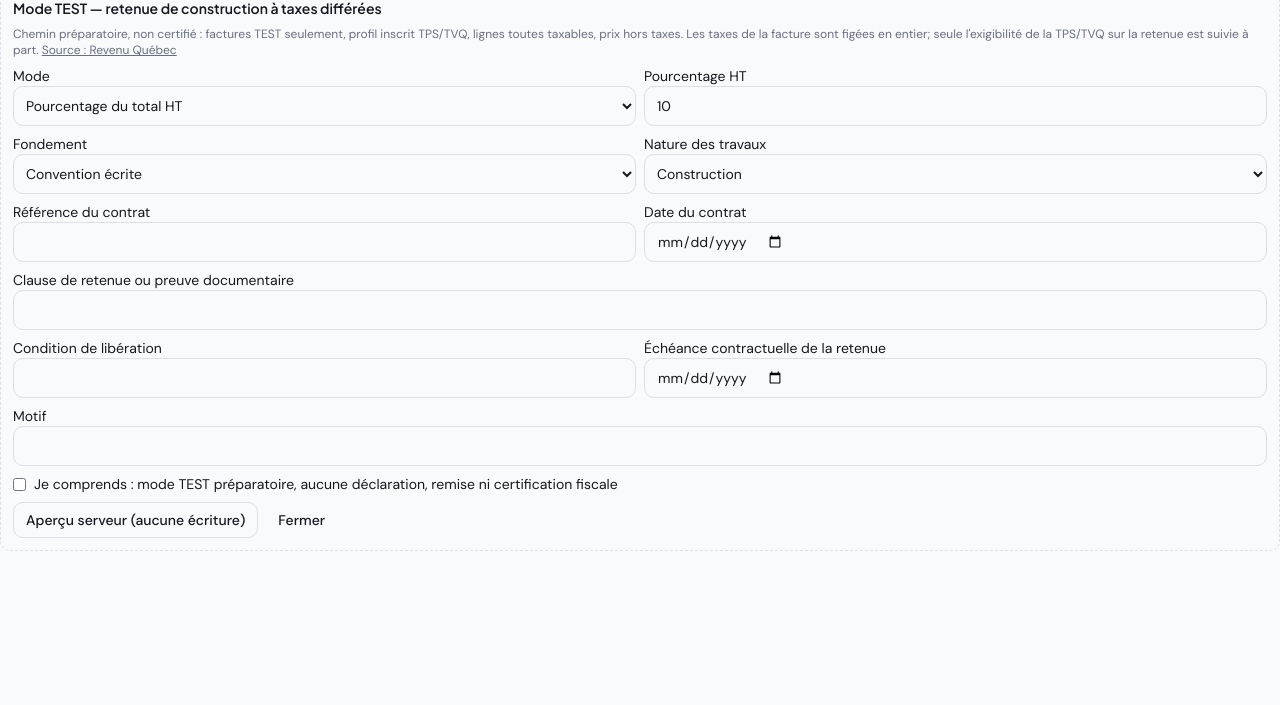
Test: FIN-09C2B1 — correctifs de revue › facture modifiée APRÈS l'aperçu : aperçu et confirmation retirés, aucune émission de l'ancien brouillon
The width and height of the screenshot is (1280, 705).
Earlier steps of the test are not shown.
Type "C-1" into the field labelled "Référence du contrat". click: {"x": 324, "y": 242}
box: left=13, top=222, right=636, bottom=262
Type "2026-09-01" into the date field labelled "Date du contrat". click: {"x": 956, "y": 242}
box: left=644, top=222, right=1267, bottom=262
Type "Art. 7" into the field labelled "Clause de retenue". click: {"x": 640, "y": 310}
box: left=13, top=290, right=1267, bottom=330
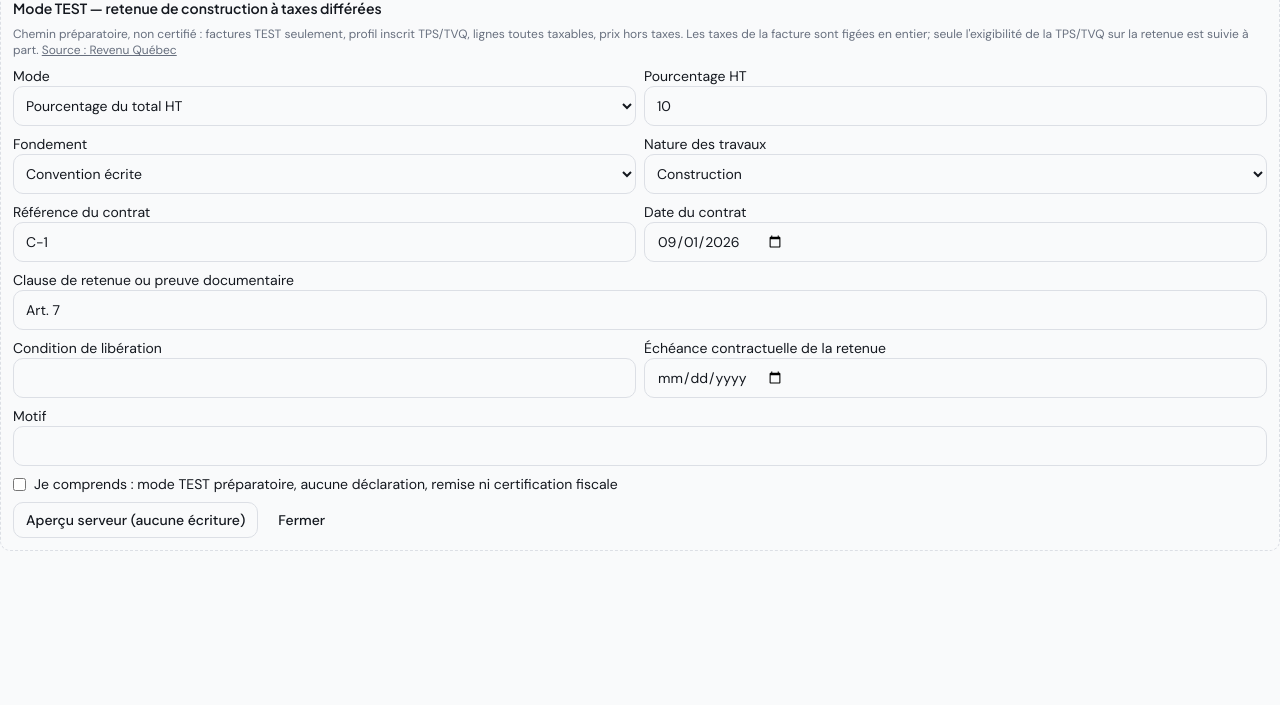
Type "Réception" into the field named "Condition de libération (construction)". click: {"x": 324, "y": 378}
box: left=13, top=358, right=636, bottom=398
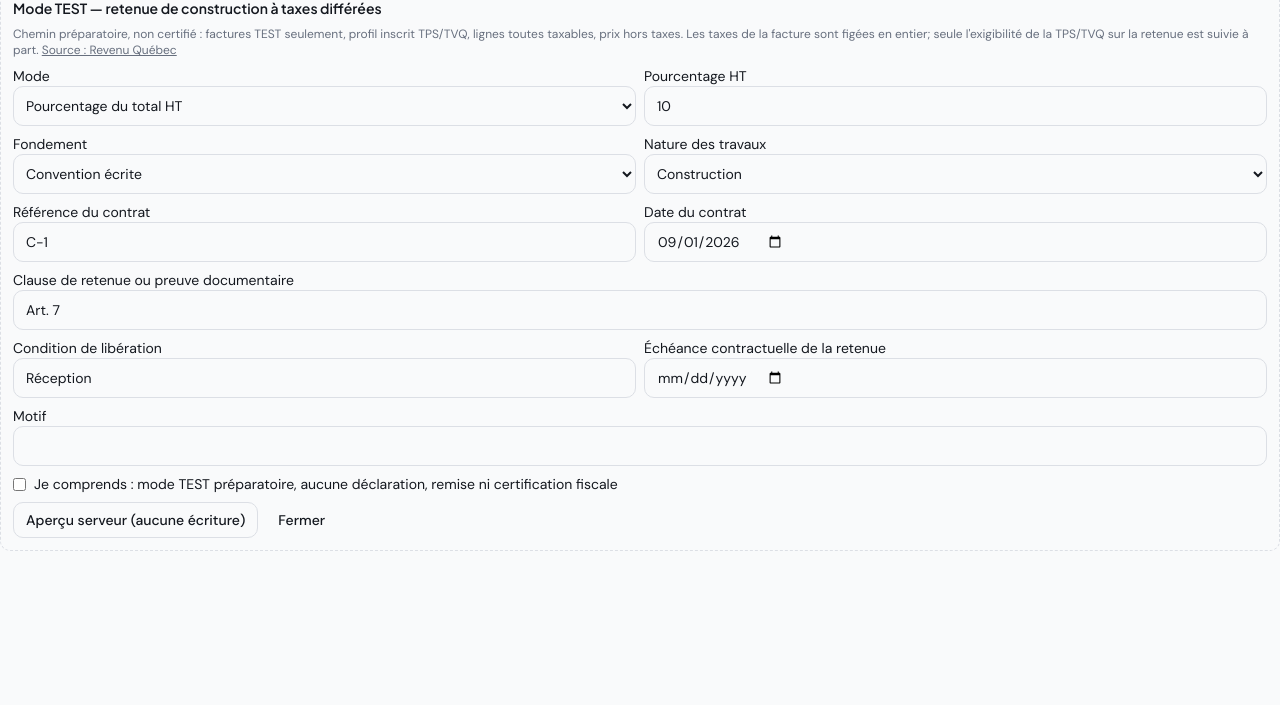
Type "2027-01-15" into the date field labelled "Échéance contractuelle". click: {"x": 956, "y": 378}
box: left=644, top=358, right=1267, bottom=398
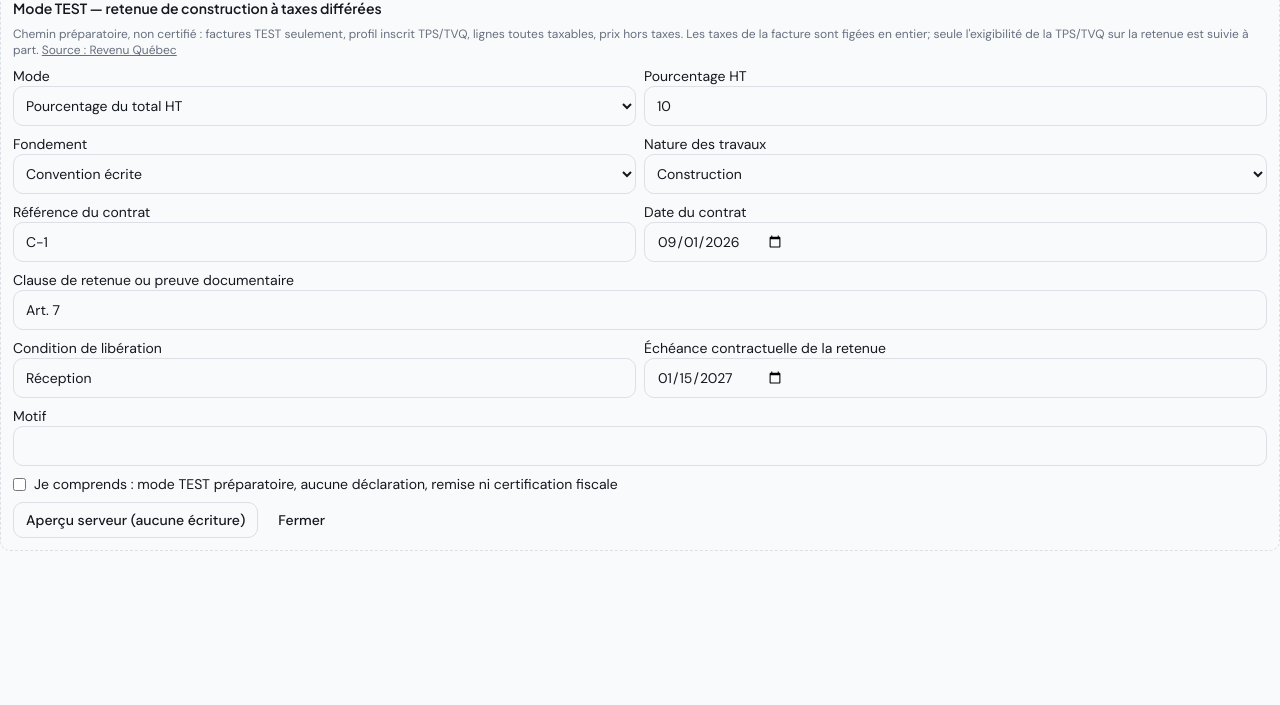
Type "R" into the field named "Motif (construction)". click: {"x": 640, "y": 446}
box: left=13, top=426, right=1267, bottom=466
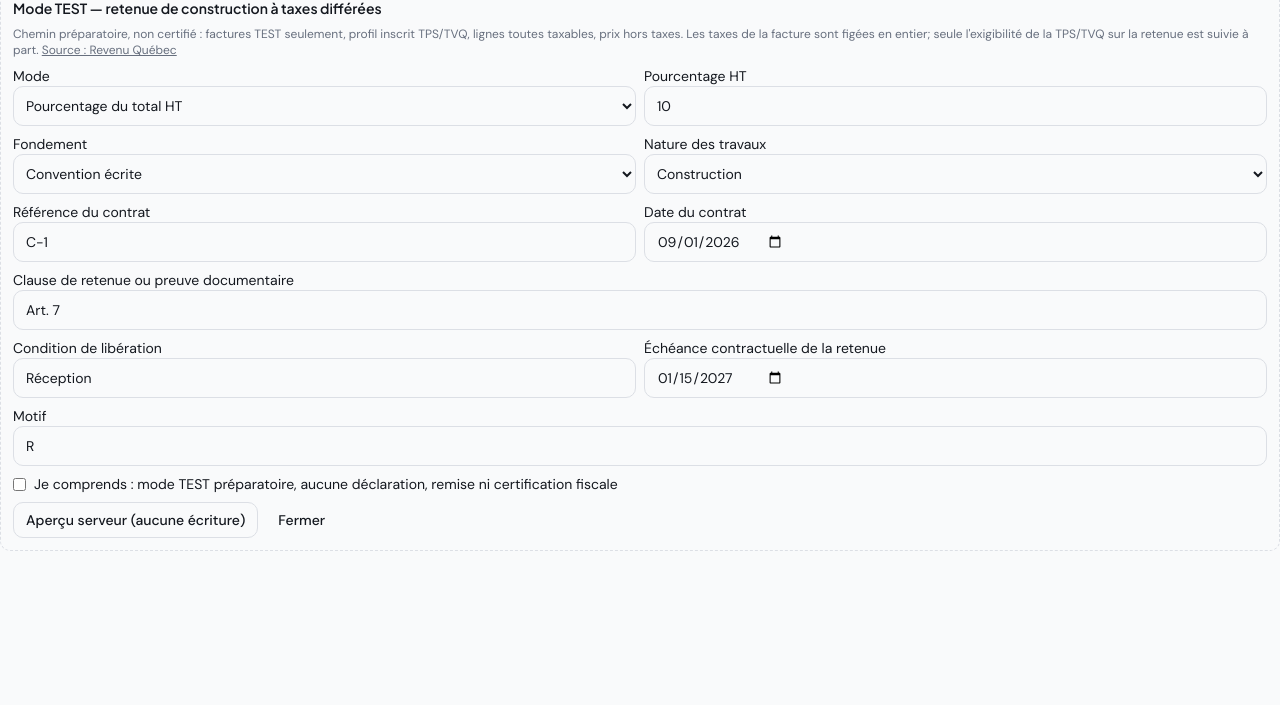
Click the checkbox labelled "Je comprends : mode TEST". click: {"x": 20, "y": 484}
box: left=13, top=478, right=26, bottom=490
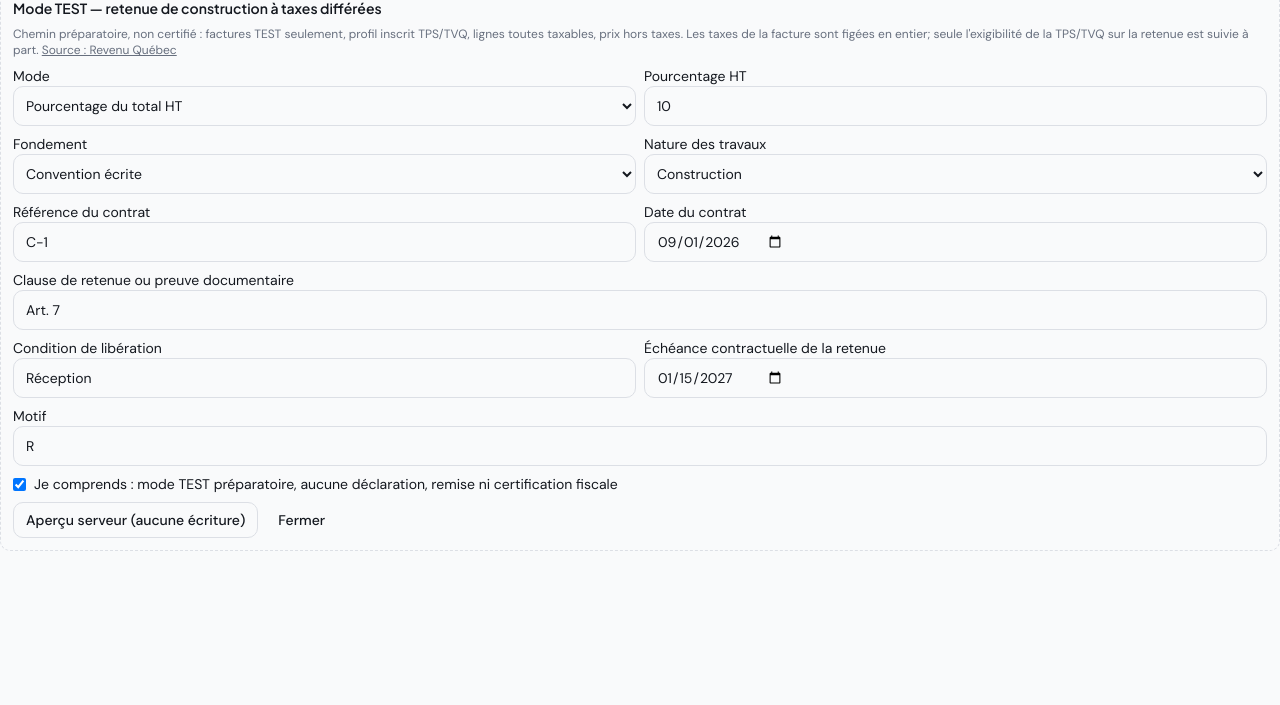
Click the button "Aperçu serveur (aucune écriture)". click: {"x": 136, "y": 520}
box: left=13, top=502, right=258, bottom=538
(page scrolled)
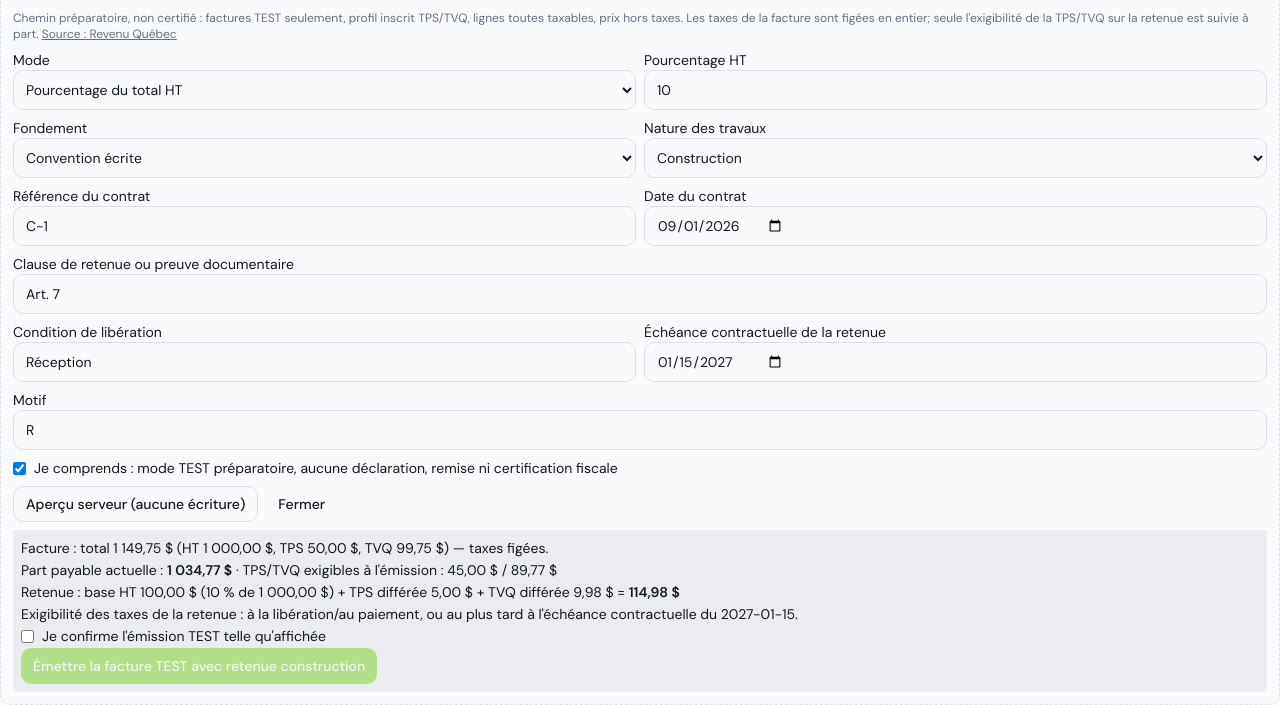
Expected: the element with test id "ctax-preview" is shown, left=13, top=530, right=1267, bottom=692
